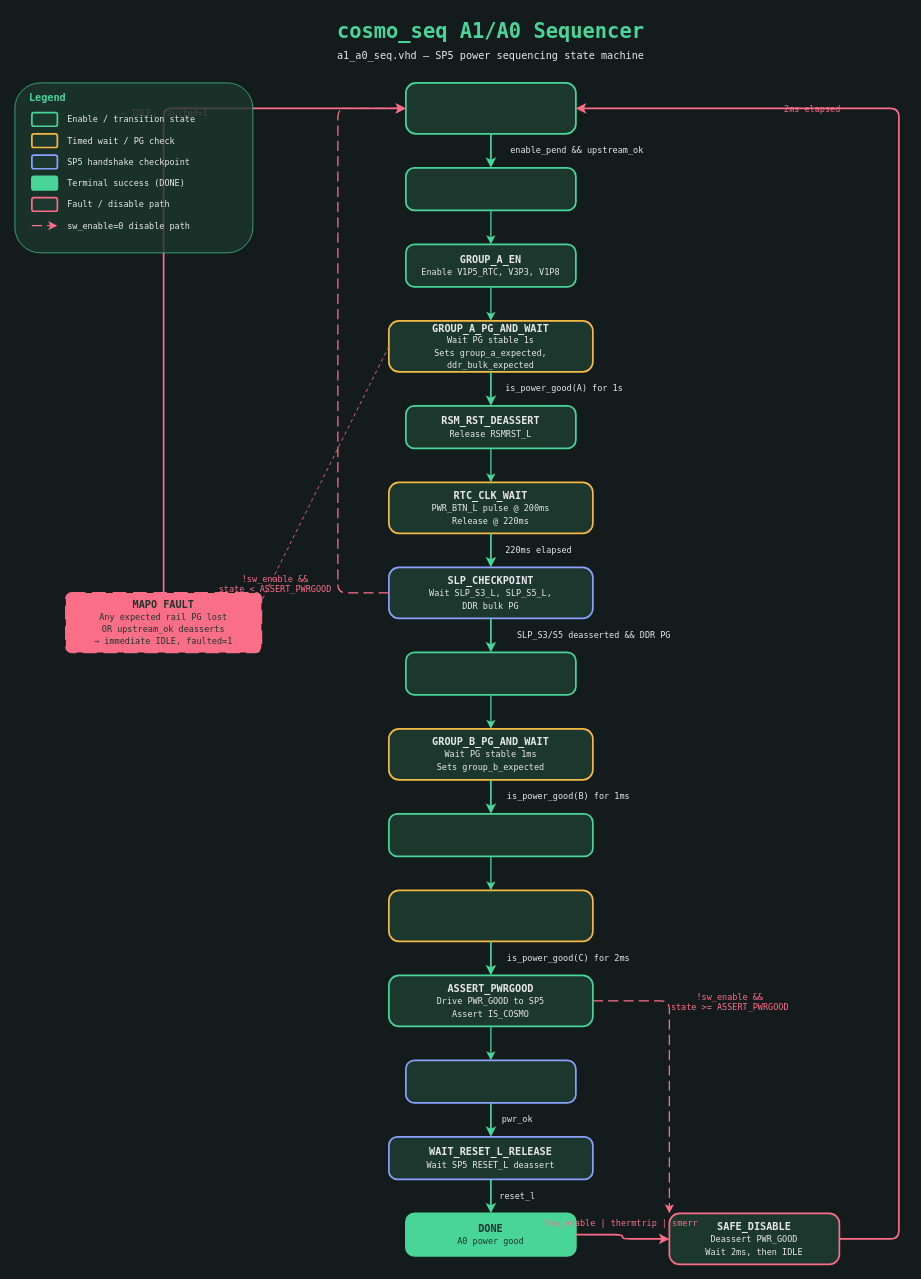
Some shapes in this 921 by 1279 pixel diagram are drawn without their labels. Here are the shapes that lost their labels. From the top down, the centre of each, then its label:
At point (490, 108): "IDLE All enables off All expected = 0".
At point (490, 189): "DDR_BULK_EN Enable DDR HSCs".
At point (490, 673): "GROUP_B_EN Enable V1P1_SP5".
At point (490, 835): "GROUP_C_EN Enable VDDIO, VDDCR_CPU0/1, VDDCR_SOC".
At point (490, 915): "GROUP_C_PG_AND_WAIT Wait PG stable 2ms Sets group_c_expected".
At point (490, 1081): "WAIT_PWROK Wait SP5 PWR_OK".
